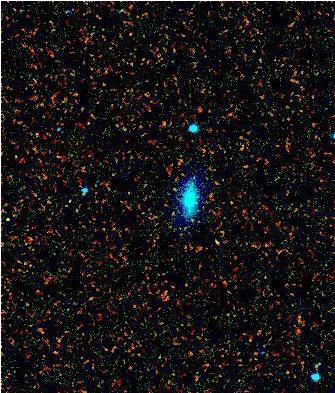star: (284, 308, 314, 338)
